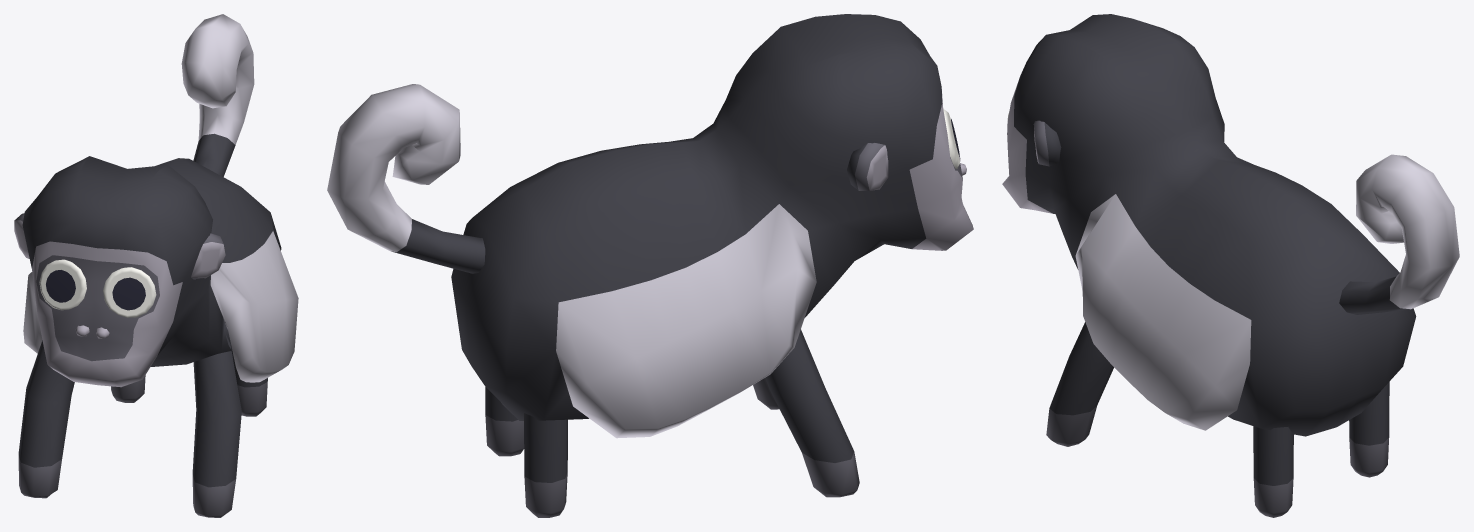
File: monkey.fbx
The picture shows the model from 3 angles, left to right: view 1: azimuth 30°, elevation 25°; view 2: azimuth 150°, elevation 25°; view 3: azimuth 270°, elevation 25°; orthographic projection. The views are drawn at different scales.
Visible parts, largest first — view 1: Colobus_LOD1.002; view 2: Colobus_LOD1.002; view 3: Colobus_LOD1.002.
Part boxes in pixels (bbox=[...]): Colobus_LOD1.002: bbox=[14, 14, 298, 517]; Colobus_LOD1.002: bbox=[327, 14, 973, 517]; Colobus_LOD1.002: bbox=[1002, 14, 1459, 517].
Bounding box in the file's own units: 89.33 × 79.86 × 89.33.
Materials: 1 (1 with a texture image).
